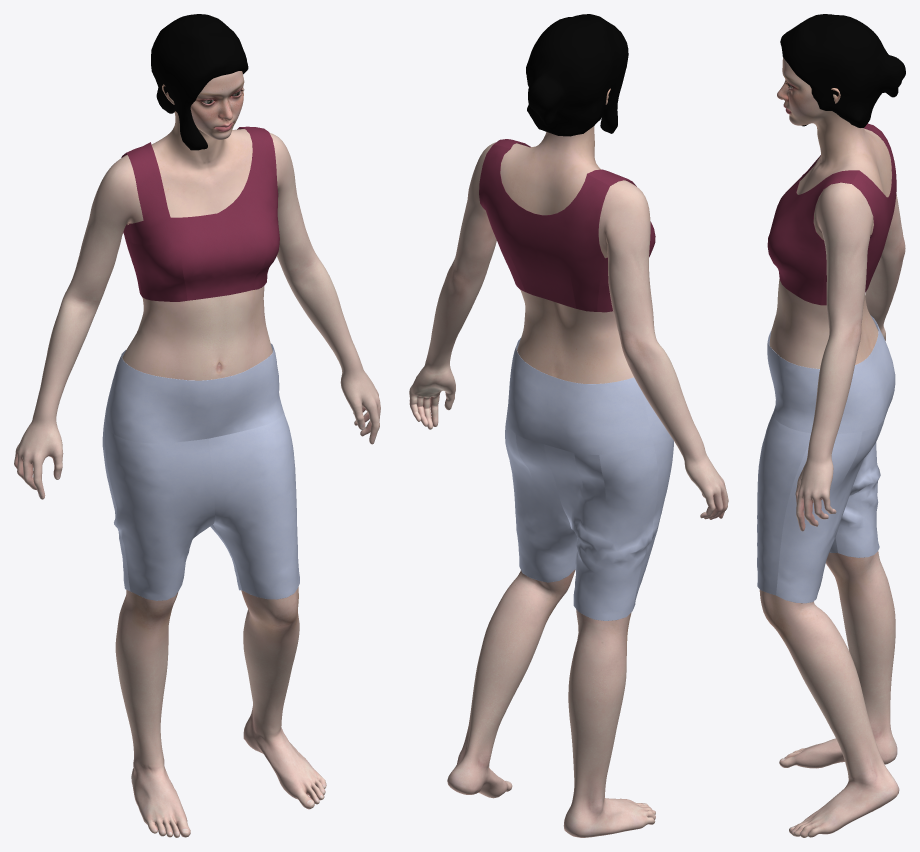
The model's file is random.obj.
3 views of the same model, side by side, from view 1: azimuth 30°, elevation 25°; view 2: azimuth 150°, elevation 25°; view 3: azimuth 270°, elevation 25° (orthographic). The views are drawn at different scales.
Bounding box in the file's own units: 775 × 1773 × 310.
